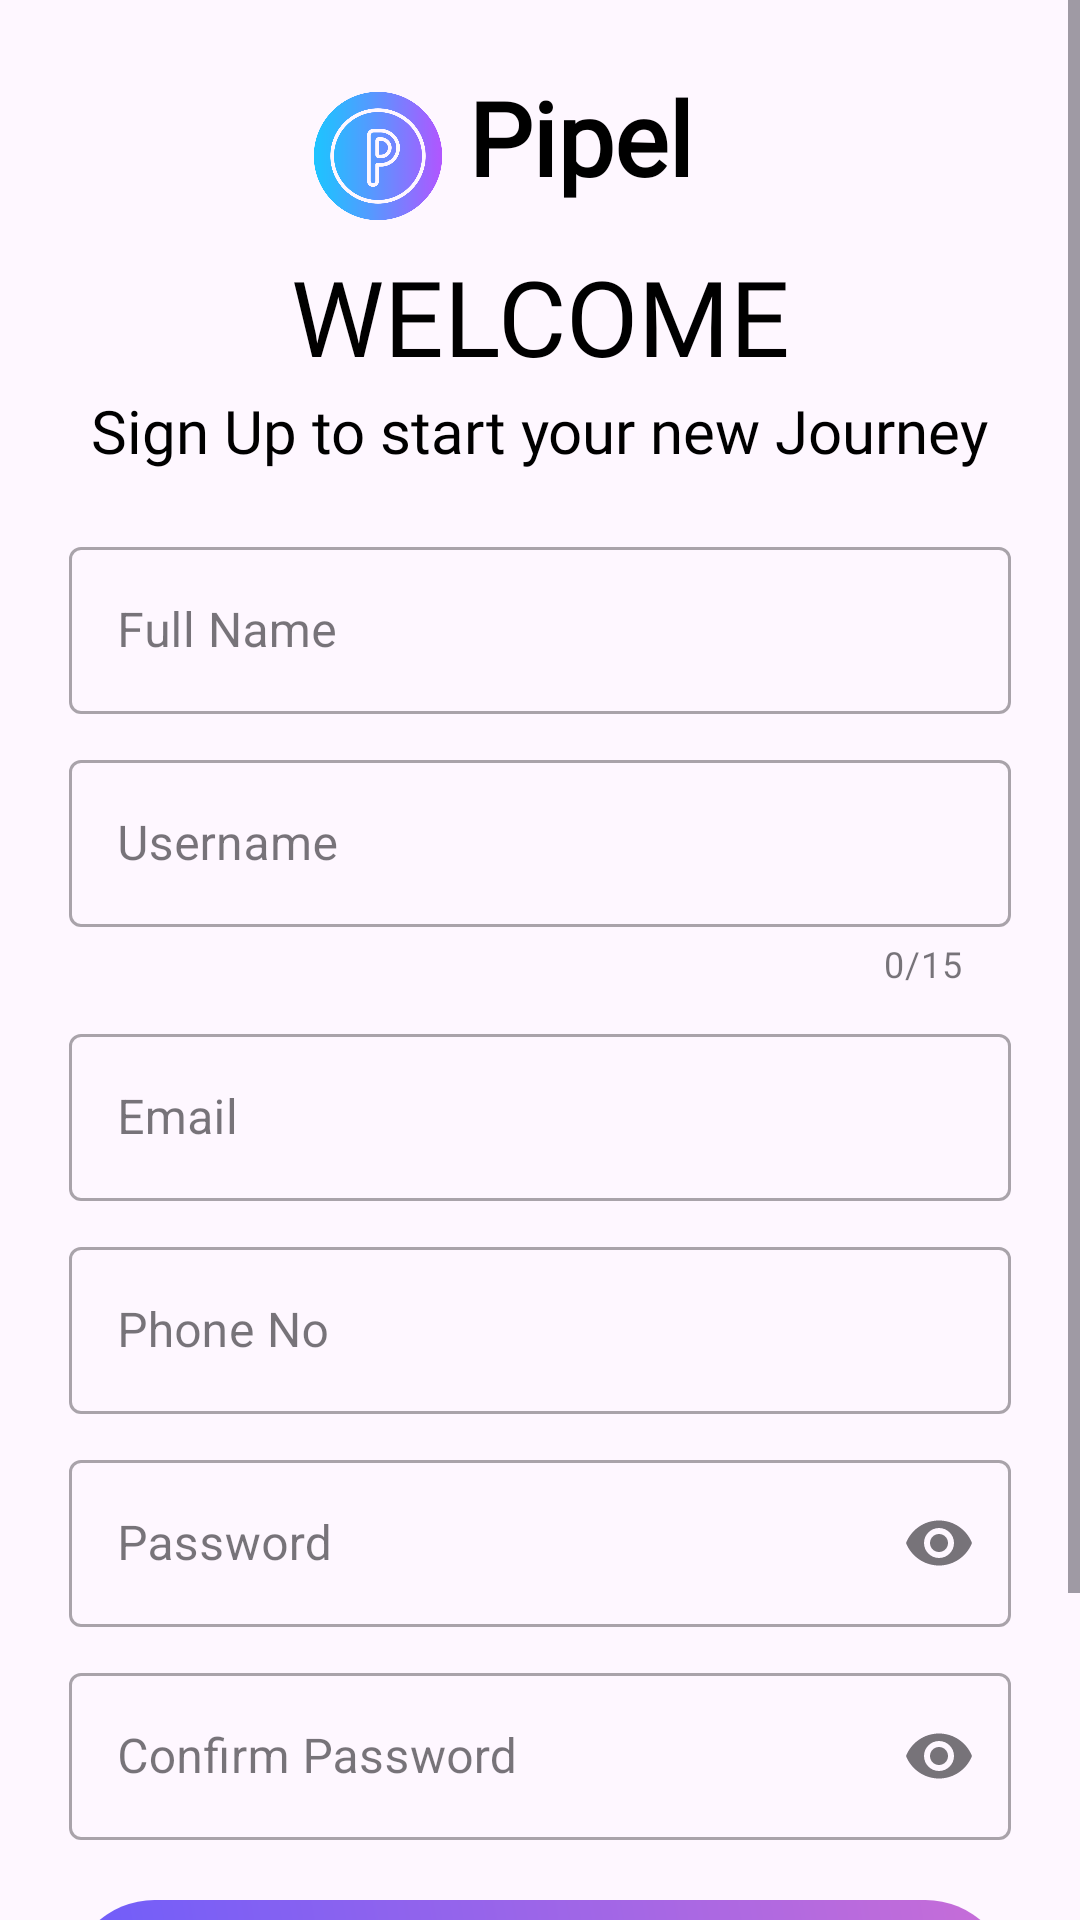

Icons on this 1080w x 1920h Android screen, each with the point to tap as point (x, y):
parking: point (378, 156)
